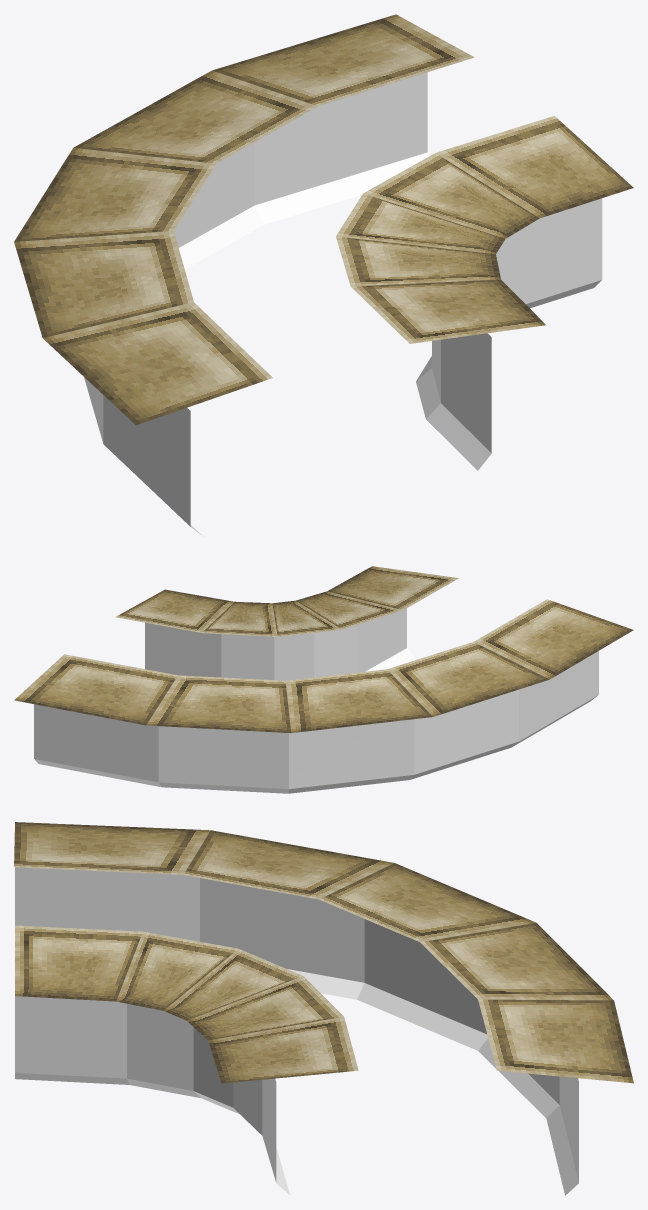
3 renders of one model, top to bottom at view 1: azimuth 30°, elevation 25°; view 2: azimuth 150°, elevation 25°; view 3: azimuth 270°, elevation 25°, orthographic. The views are drawn at different scales.
Parts seen in each view (by area): view 1: prim183-curvebarrier; view 2: prim183-curvebarrier; view 3: prim183-curvebarrier.
Boxes of the visible parts, x1=… form: prim183-curvebarrier: x1=14, y1=14, x2=633, y2=536; prim183-curvebarrier: x1=14, y1=566, x2=633, y2=793; prim183-curvebarrier: x1=14, y1=822, x2=633, y2=1195.
Bounding box in the file's own units: 1152 × 256 × 1153.
2 materials, 1 textured.
